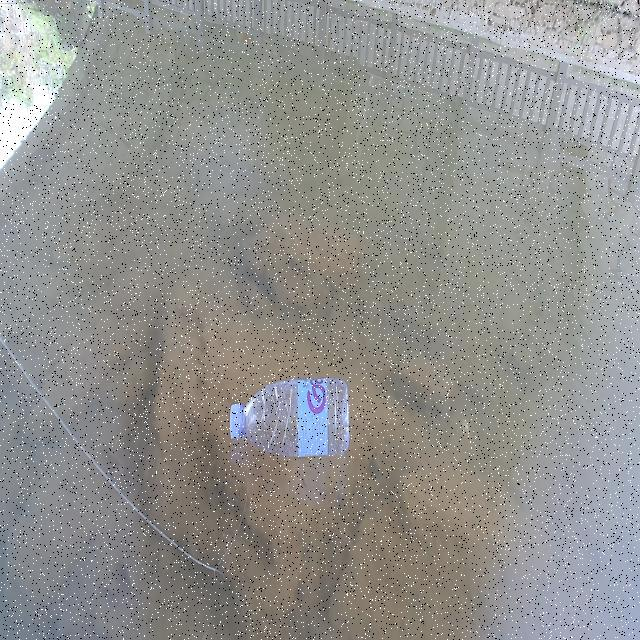Bottle: (231, 372, 353, 472)
